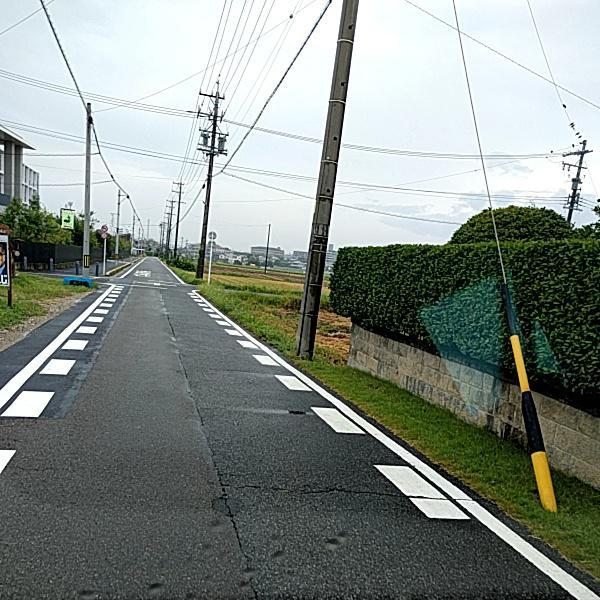D10: (215, 474, 456, 508), (4, 460, 60, 473)
